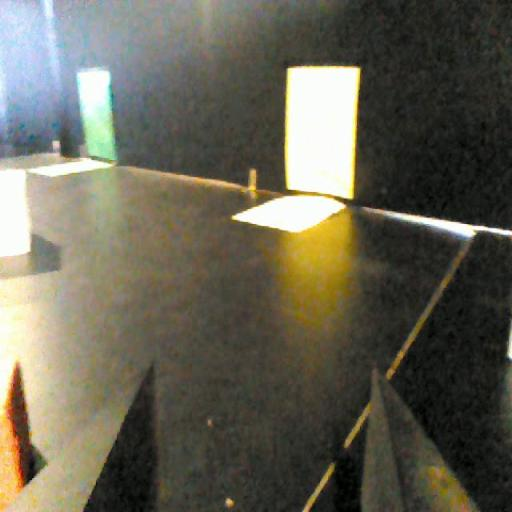cube: (1, 361, 38, 509), (0, 166, 33, 267)
